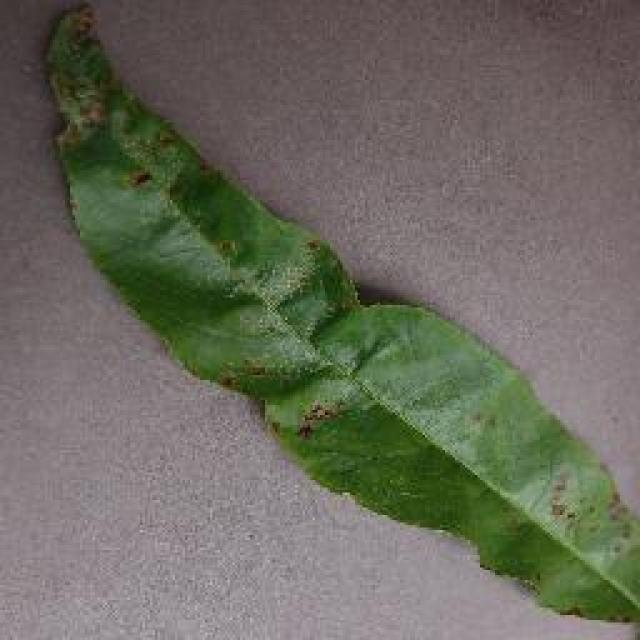Peach_Bacterial_Spot: (40, 14, 523, 478)
